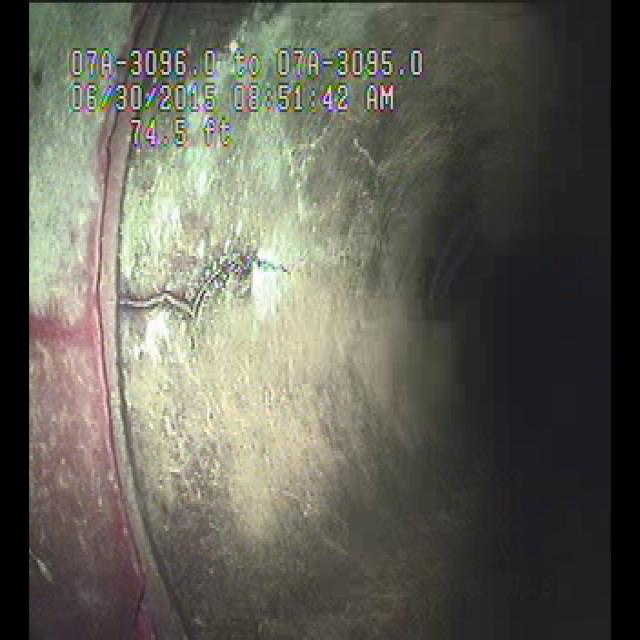Crack: (128, 223, 307, 344)
